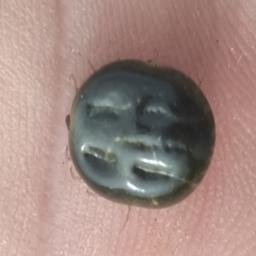Rhipicephalus sanguineus: (64, 58, 216, 208)
